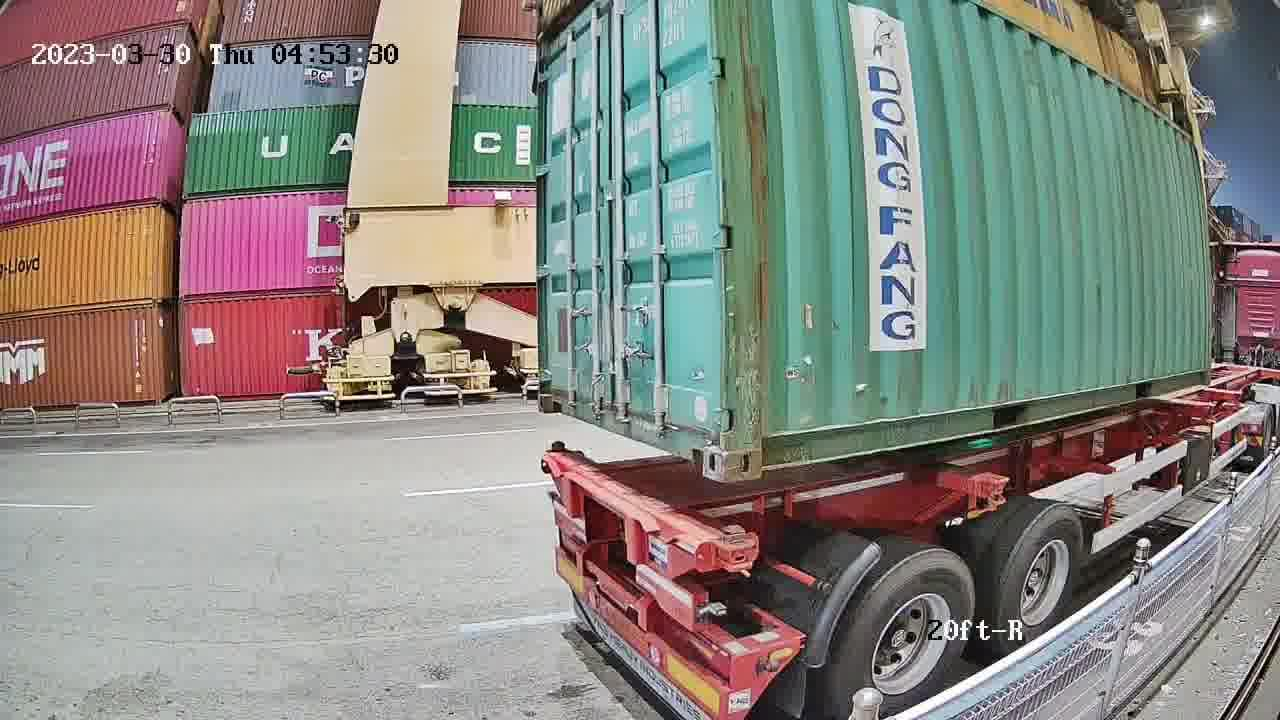Chassis: (545, 450, 753, 580)
Cone: (715, 526, 751, 573), (549, 439, 565, 454)
Hole_L: (724, 413, 799, 484), (537, 374, 572, 419)
Hole_R: (679, 419, 723, 481)
Tire: (840, 553, 973, 719), (1001, 507, 1083, 653)
